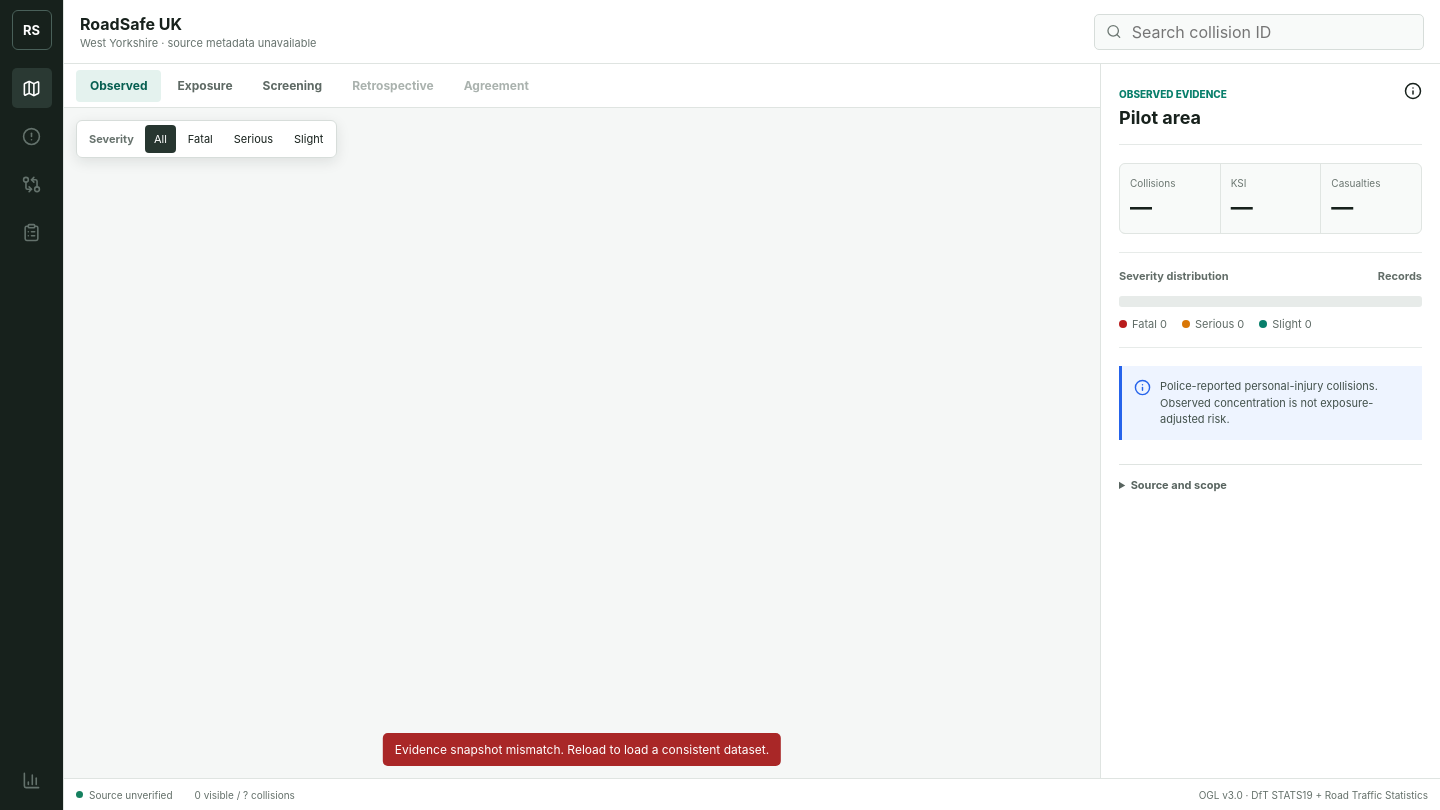
it: mixed initial collisions snapshot rejects the essential group
The width and height of the screenshot is (1440, 810).
Check: the text "Evidence snapshot mismatch. Reload to load a consistent dataset." is shown, box [383,733,781,766]
What coordinates should you click on to do the following:
click the button "Exposure"
I would click on:
 (205, 86)
Its box is [164,70,247,102].
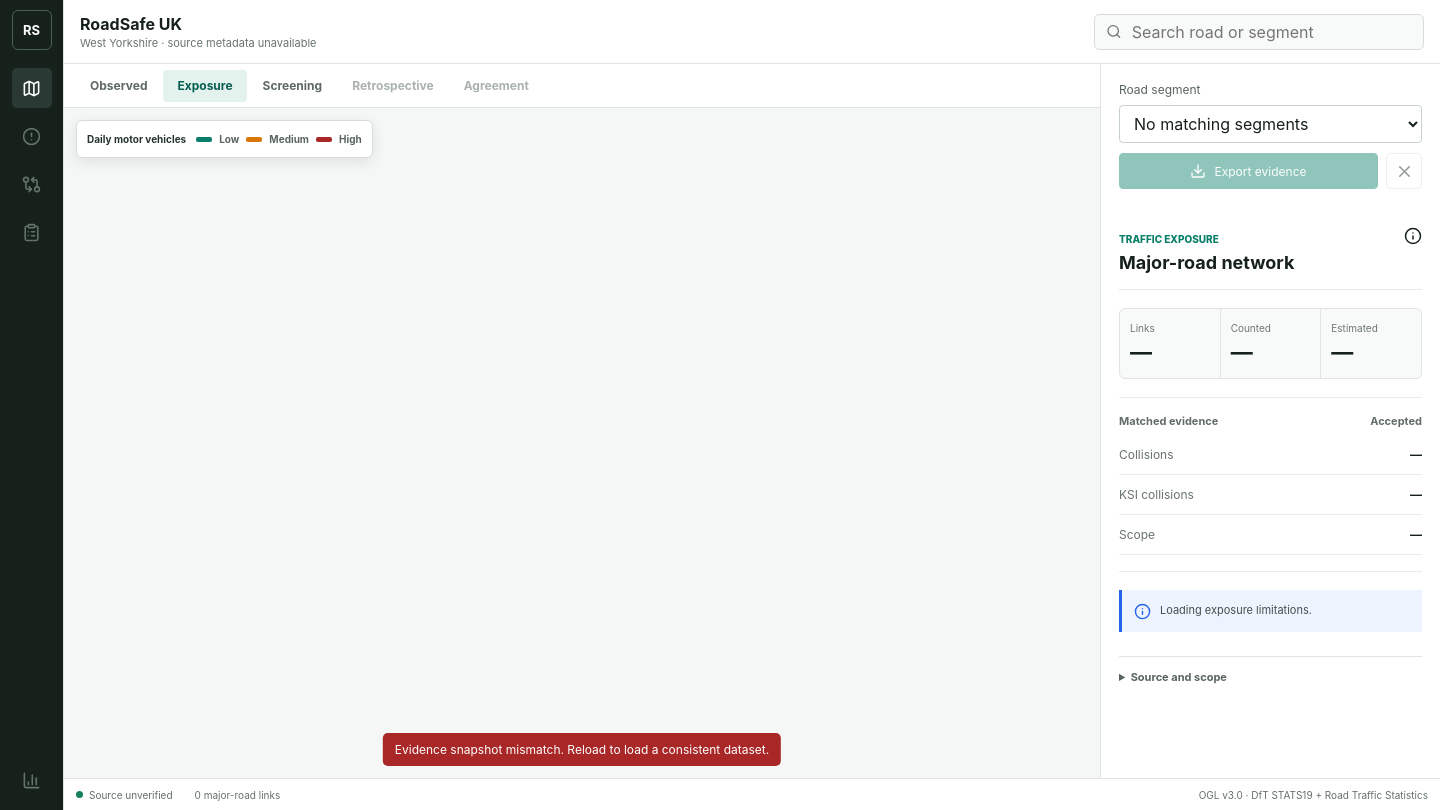
Check: the button "Export evidence" is disabled, box [1119,153,1378,189]
